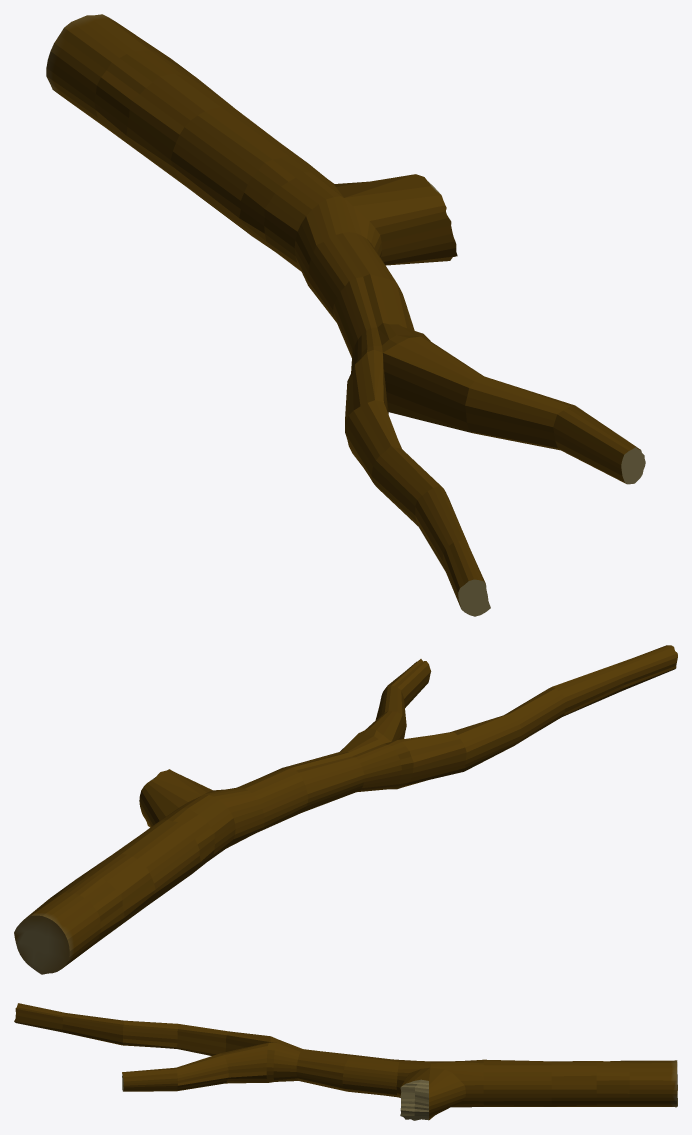
The model's file is Stick1.fbx.
The picture shows the model from 3 angles, top to bottom: view 1: azimuth 30°, elevation 25°; view 2: azimuth 150°, elevation 25°; view 3: azimuth 270°, elevation 25°; orthographic projection. The views are drawn at different scales.
Visible parts, largest first — view 1: Cylinder; view 2: Cylinder; view 3: Cylinder.
Part boxes in pixels (<box>): Cylinder: <box>46,14,645,616</box>; Cylinder: <box>14,645,677,974</box>; Cylinder: <box>14,1003,677,1120</box>.
Size of the model in its own units: 322 by 73.63 by 950.
